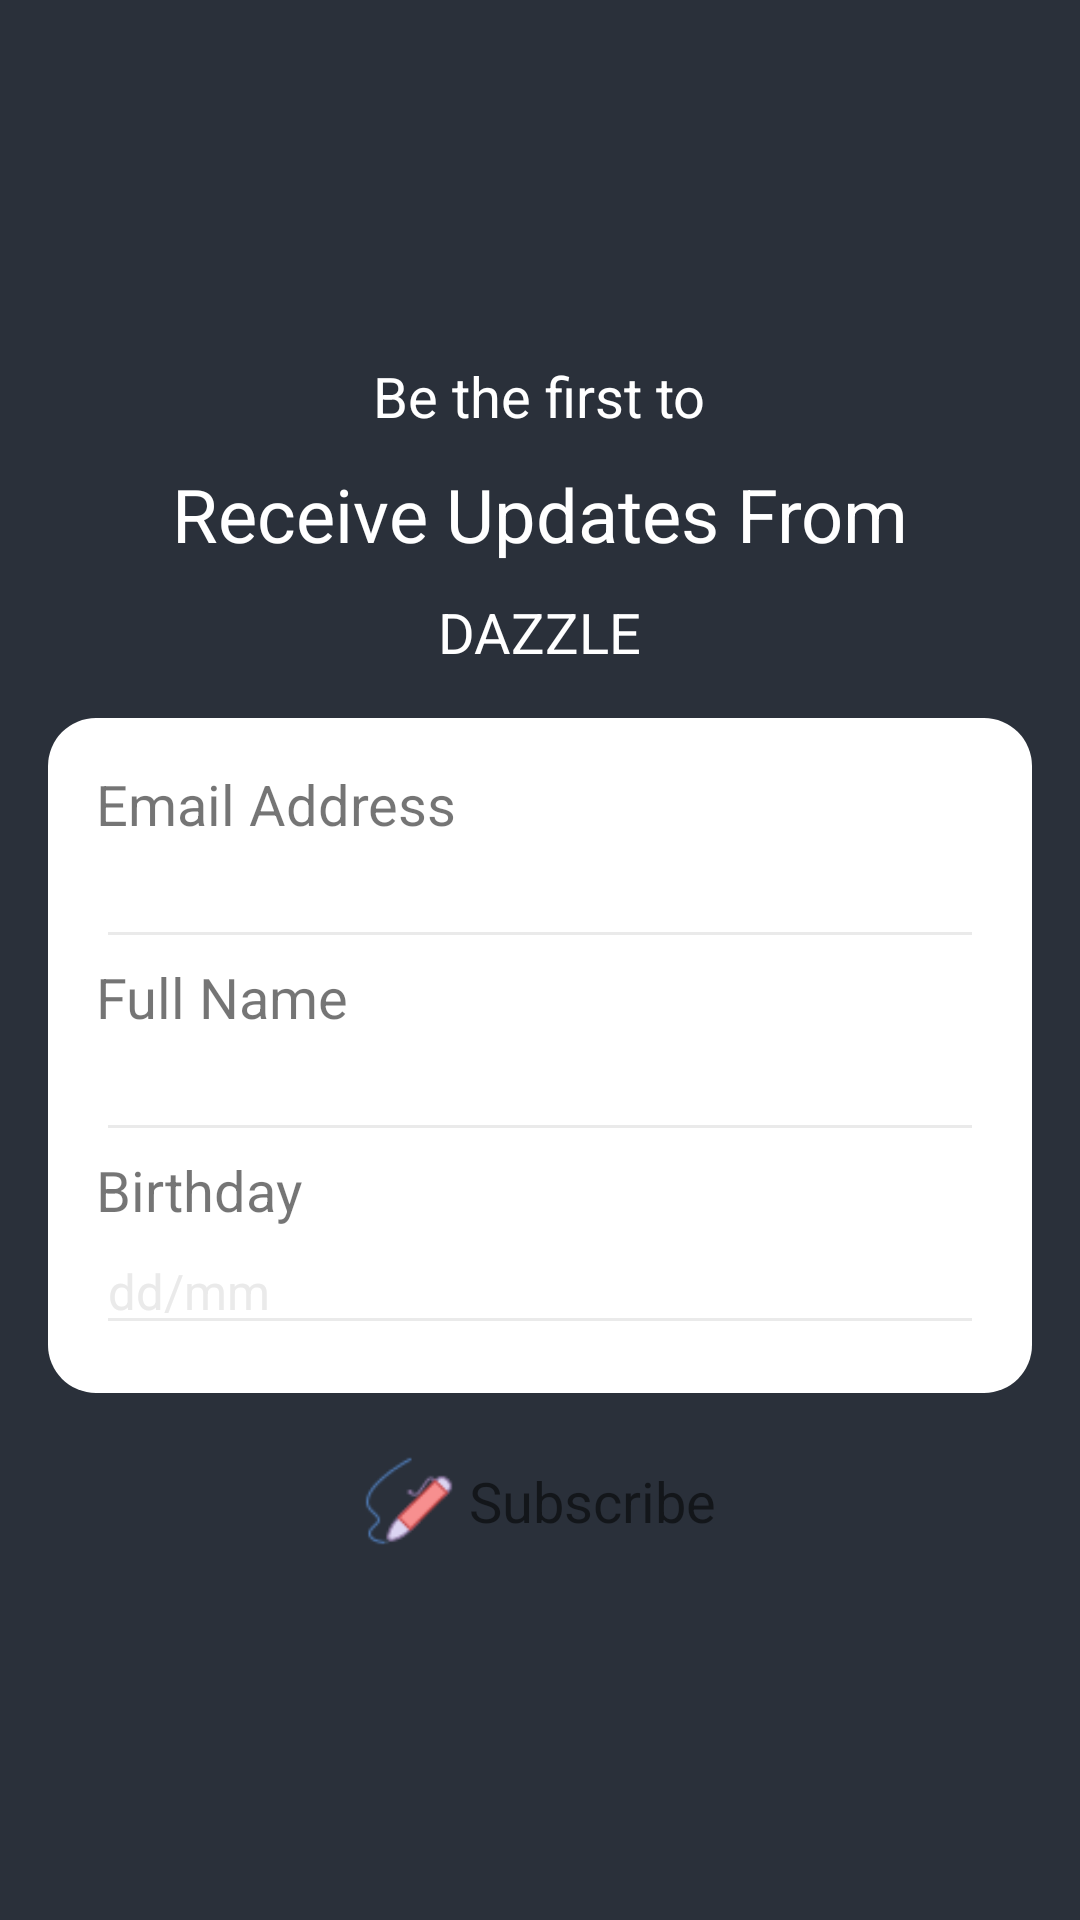

Screen size 1080 x 1920. Icon name, then its box in pixels as [x1=x1, y1=y1, x2=x2, y2=y2]:
signup: [x1=366, y1=1458, x2=452, y2=1544]
